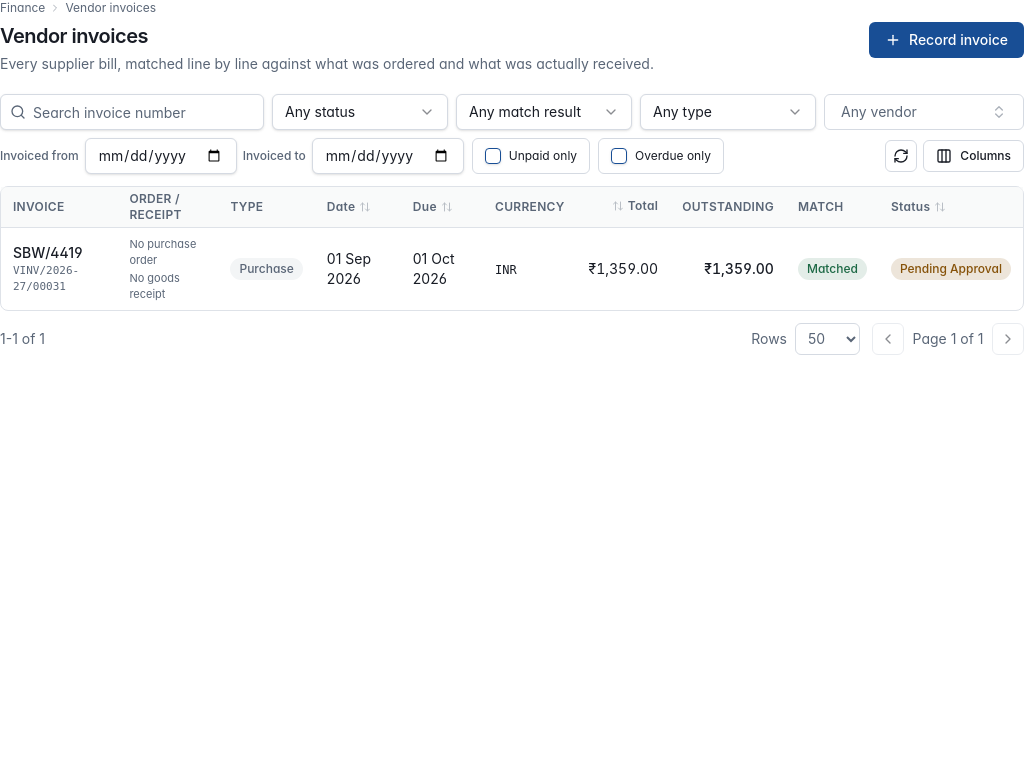
Test: a command is offered only in the status its state machine permits › drops submit and delete once the bill has left draft, and keeps amend
What coordinates should you click on to do the following:
click the button "SBW/4419"
I would click on:
 (48, 252)
Its box is x1=13 y1=242 x2=82 y2=262.
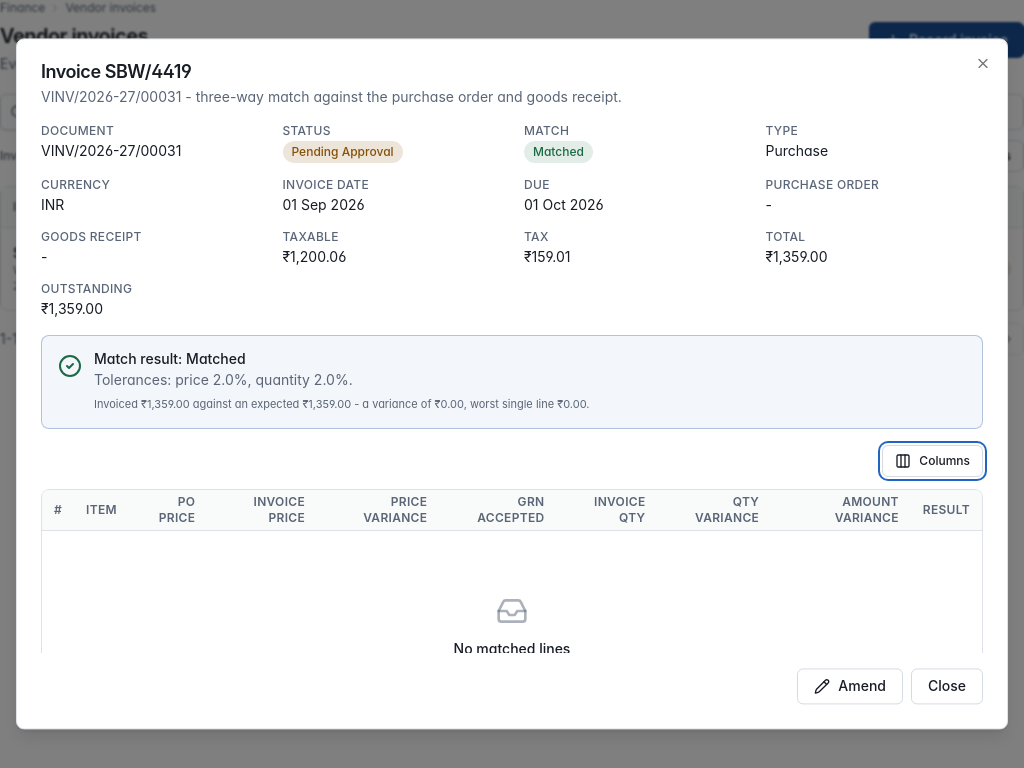
Expected: the button "Amend" is shown, x1=797 y1=669 x2=903 y2=705
